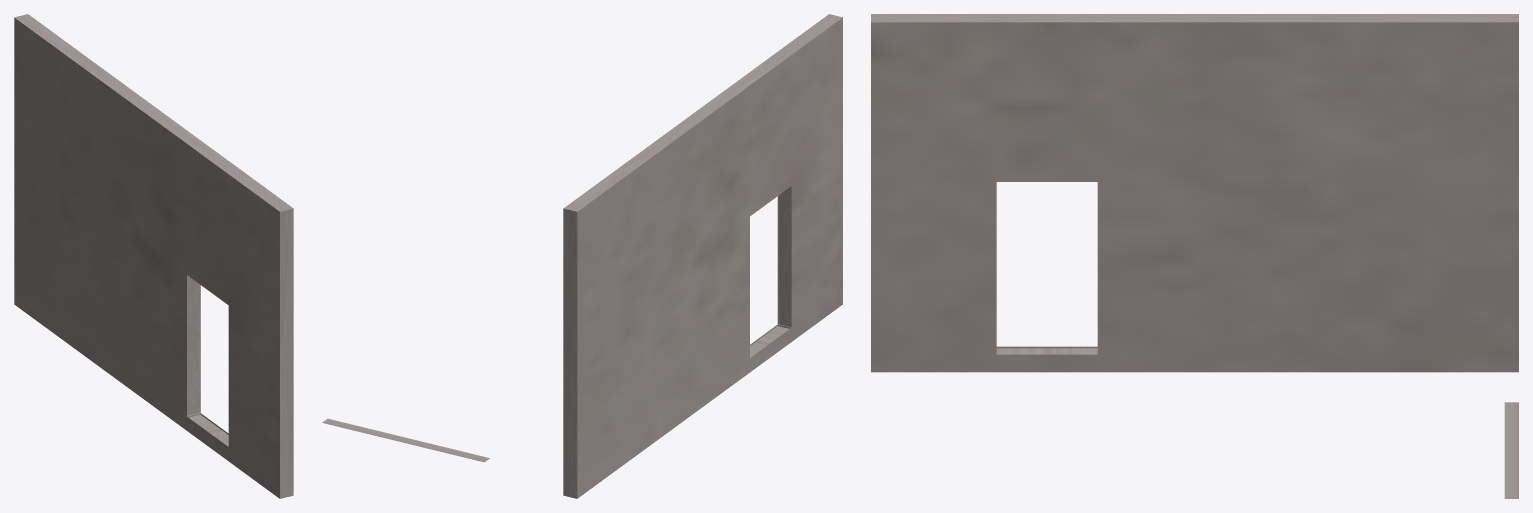
The model's file is WallFixed.fbx.
3 renders of one model, left to right at view 1: azimuth 30°, elevation 25°; view 2: azimuth 150°, elevation 25°; view 3: azimuth 270°, elevation 25°, orthographic. The views are drawn at different scales.
Parts seen in each view (by area): view 1: Wall5; view 2: Wall5; view 3: Wall5.
Boxes of the visible parts, x1,y1,x2,y2 form: Wall5: (14,14,293,498); Wall5: (322,14,842,498); Wall5: (871,14,1518,498).
Size of the model in its own units: 1192 by 1281 by 2150.
